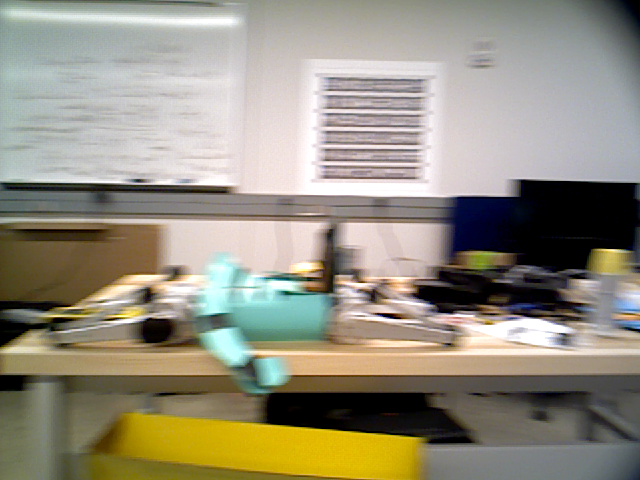painting4: (298, 59, 442, 195)
